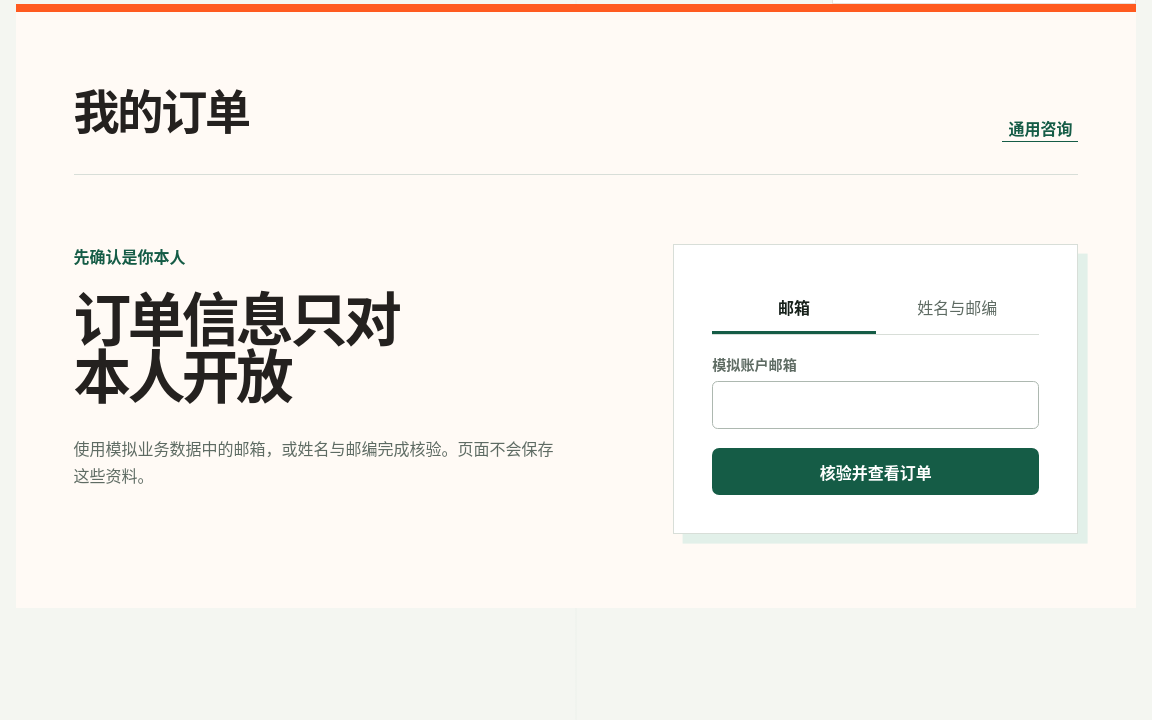
Test case: SupportPage conversation and confirmation › renders a concrete cancel proposal while waiting for confirmation
(page scrolled)
Expected: the heading "订单信息只对本人开放" is shown, [74, 288, 413, 403]
Type "customer@example.invalid" into the field labelled "模拟账户邮箱". click: x=876, y=405
box: [712, 381, 1039, 429]
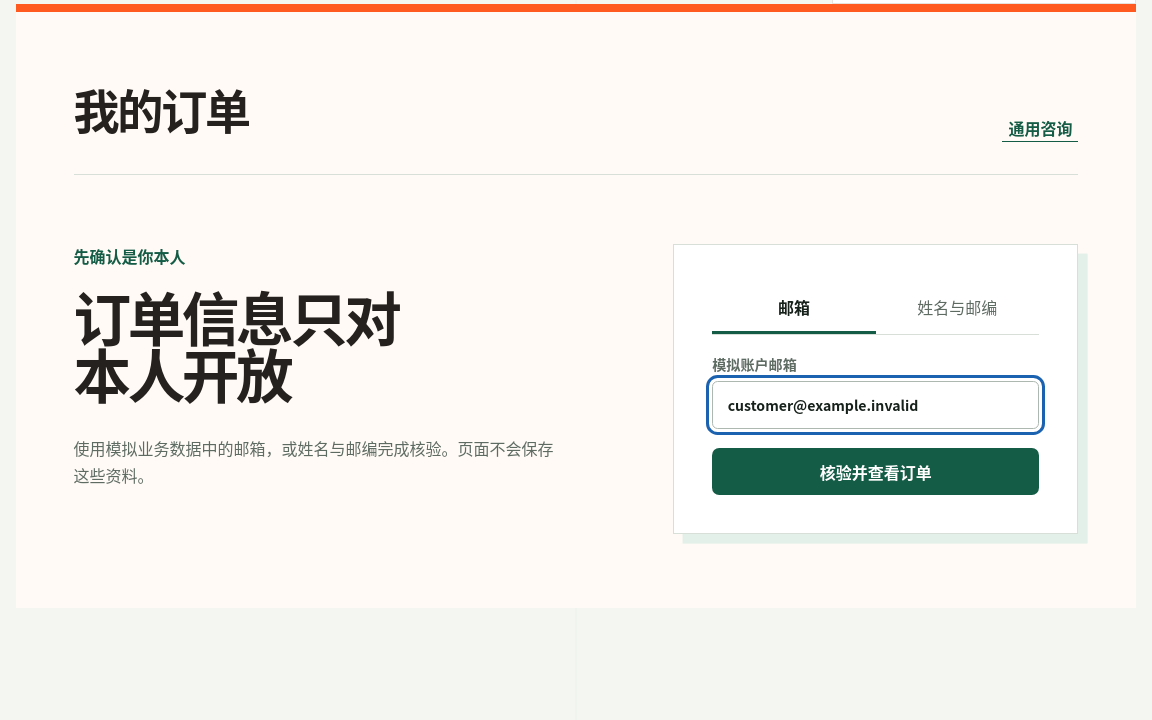
Click the button "核验并查看订单". click: x=876, y=472
box: [712, 448, 1039, 495]
(page scrolled)
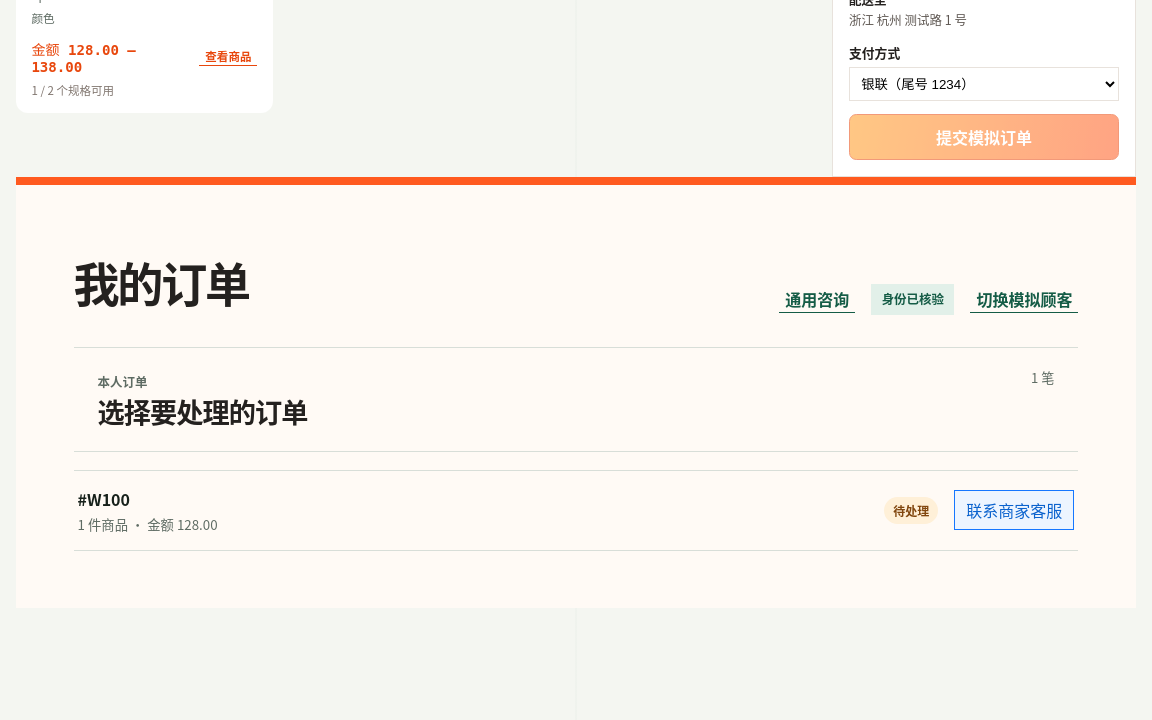
Result: the text "#W100" is shown at [78, 487, 130, 511]
Click the button "联系商家客服". click: x=1014, y=510
box: [954, 490, 1074, 530]
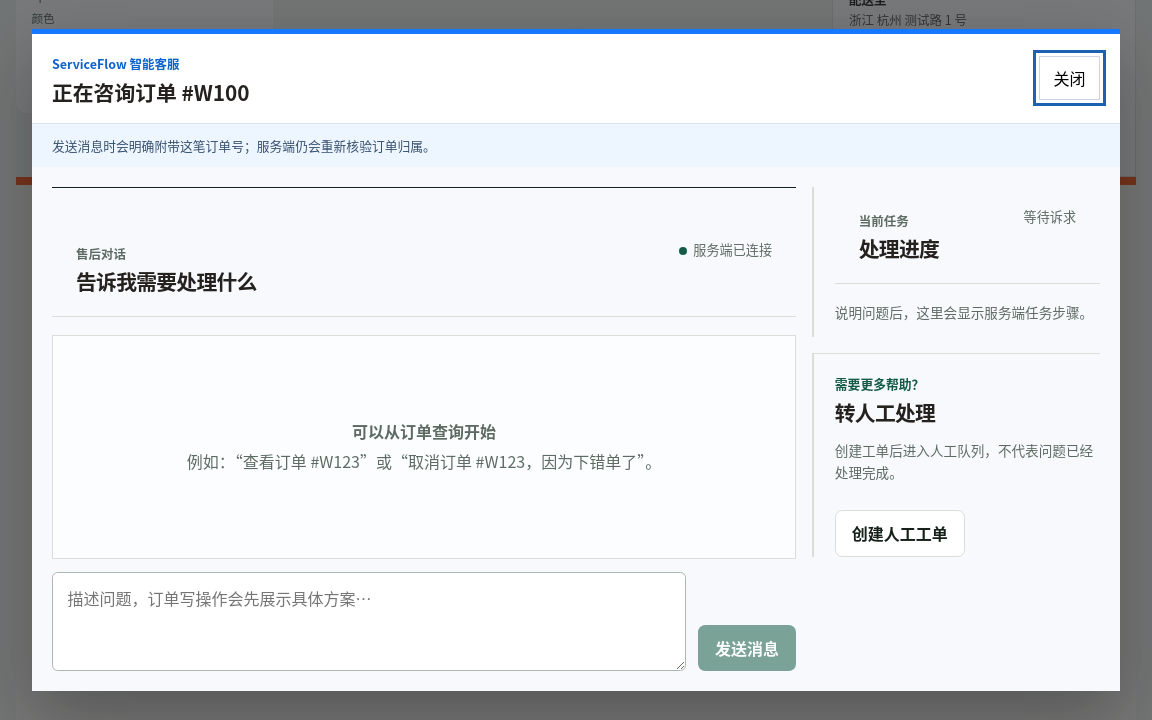
Result: the dialog "正在咨询订单 #W100" is shown
Type "cancel order #W100" into the text box named "输入售后问题". click: x=369, y=622
box: [52, 572, 686, 672]
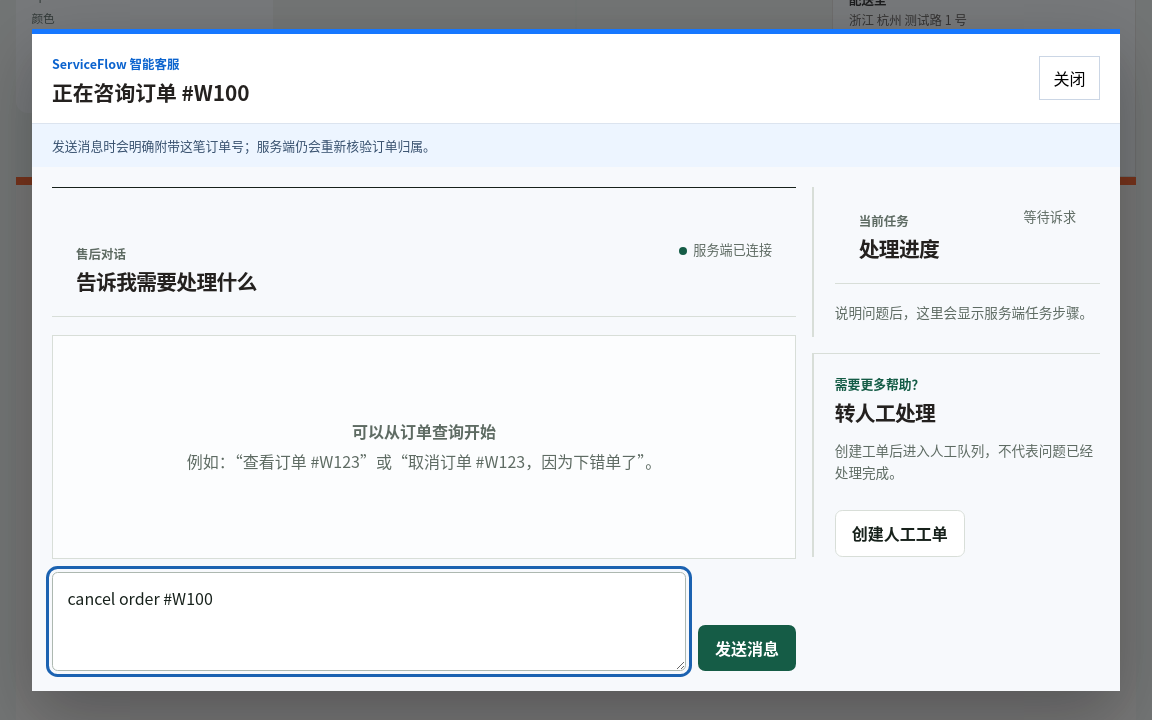
Click the button "发送消息". click: x=747, y=648
box: [698, 625, 796, 672]
(page scrolled)
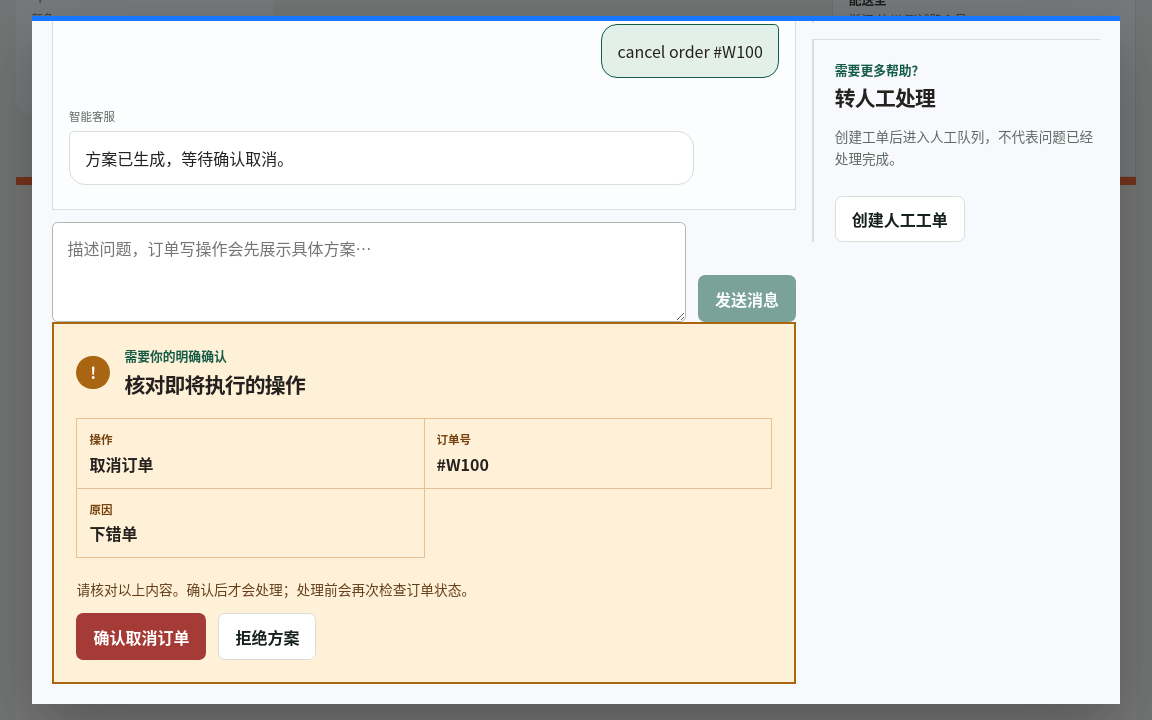
Result: the element "核对即将执行的操作" shows "取消订单" at [89, 452, 153, 476]
Result: the element "核对即将执行的操作" shows "订单号" at [436, 431, 471, 447]
Result: the element "核对即将执行的操作" shows "#W100" at [436, 452, 489, 476]
